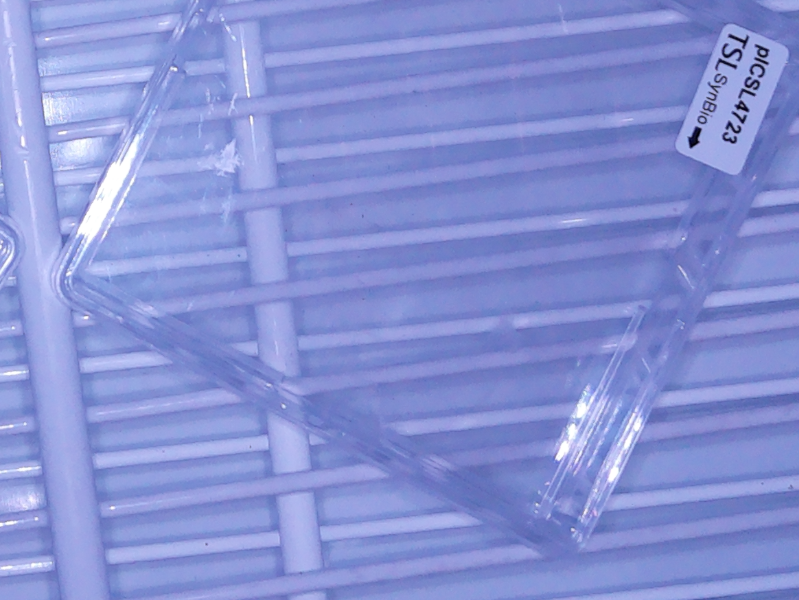plate: (49, 1, 799, 560), (1, 210, 26, 286)
